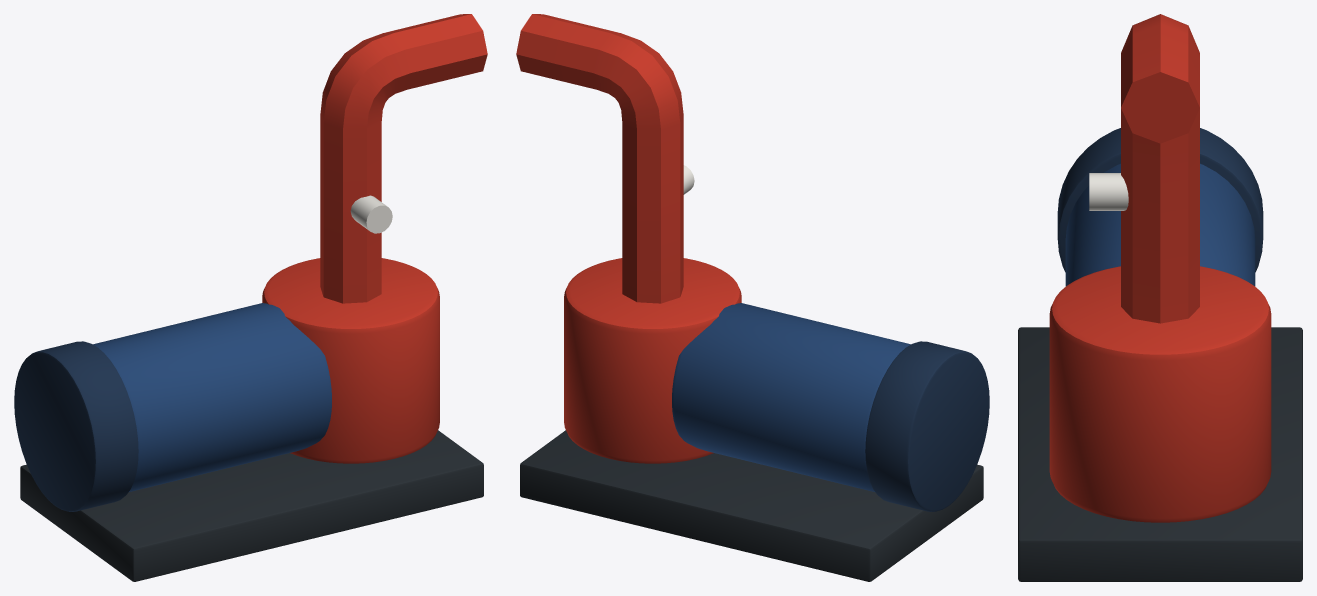
File: firepump.glb
The picture shows the model from 3 angles, left to right: view 1: azimuth 30°, elevation 25°; view 2: azimuth 150°, elevation 25°; view 3: azimuth 270°, elevation 25°; orthographic projection. The views are drawn at different scales.
Parts seen in each view (by area): view 1: firepump; view 2: firepump; view 3: firepump.
Boxes of the visible parts, x1=… form: firepump: x1=14, y1=14, x2=487, y2=581; firepump: x1=516, y1=14, x2=989, y2=581; firepump: x1=1018, y1=14, x2=1302, y2=581.
Bounding box in the file's own units: 3.8 × 3.75 × 1.8.
